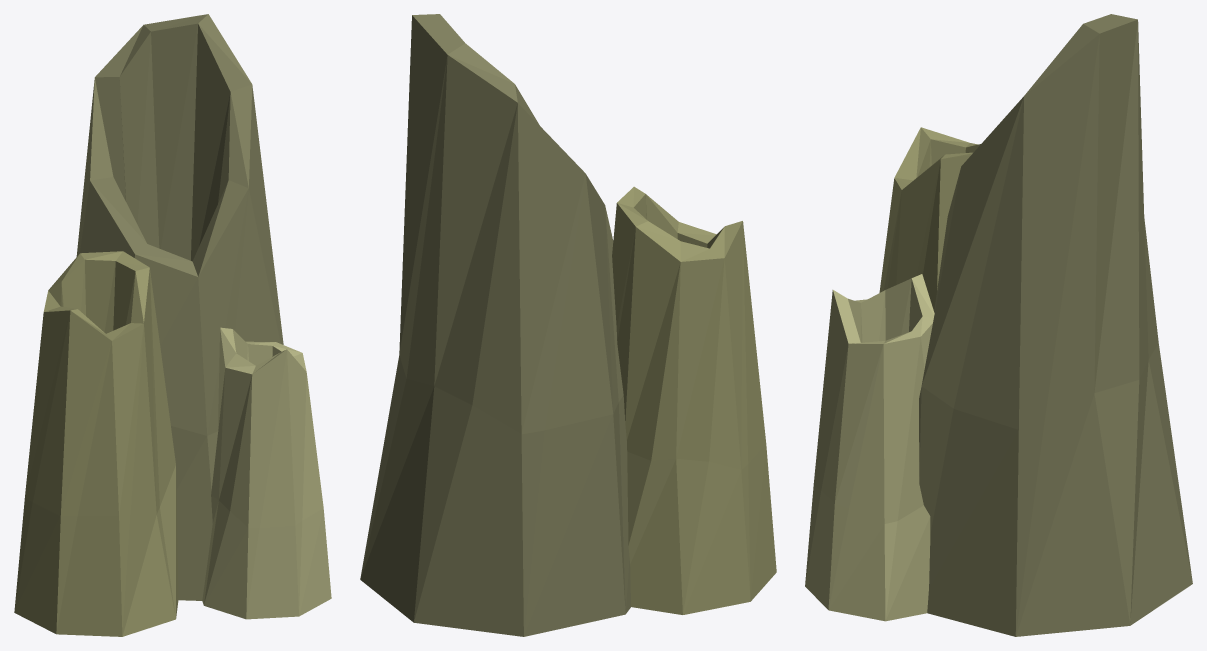
File: RH_Tree01.fbx
3 renders of one model, left to right at view 1: azimuth 30°, elevation 25°; view 2: azimuth 150°, elevation 25°; view 3: azimuth 270°, elevation 25°, orthographic. The views are drawn at different scales.
Parts seen in each view (by area): view 1: RH_Tree01; view 2: RH_Tree01; view 3: RH_Tree01.
Part boxes in pixels (bbox=[...]): RH_Tree01: bbox=[14, 14, 331, 636]; RH_Tree01: bbox=[360, 14, 776, 636]; RH_Tree01: bbox=[805, 14, 1192, 636].
Bounding box in the file's own units: 177 × 281 × 172.
1 material, 1 textured.
